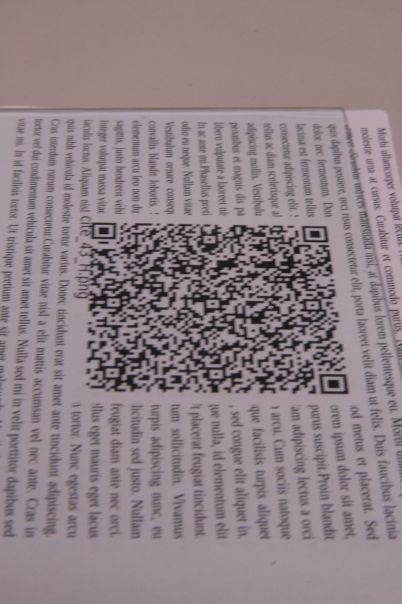Finder pattern: (86, 219, 126, 246), (297, 221, 333, 248), (317, 371, 353, 398)
